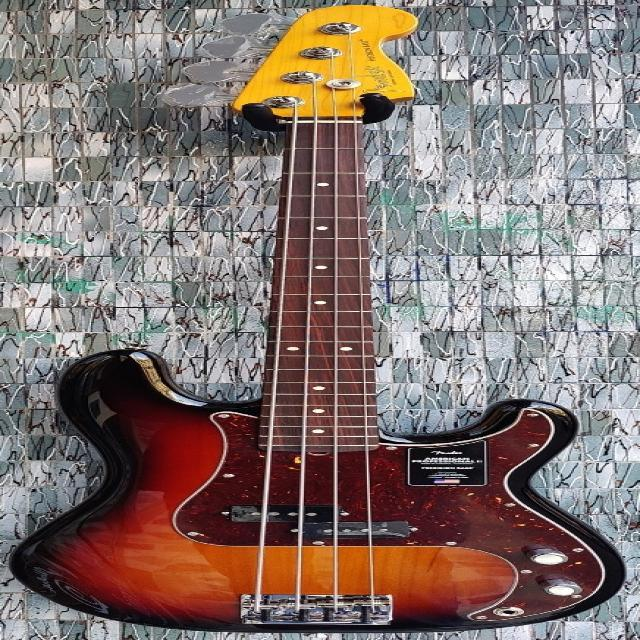bass: (11, 5, 623, 631)
